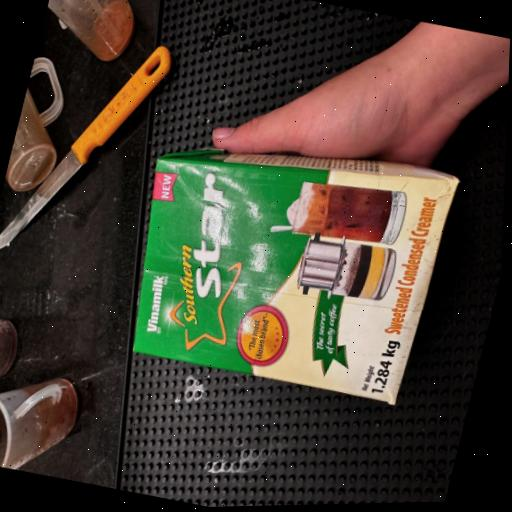cafe_hat: (218, 261, 241, 343)
sua_dac: (133, 148, 458, 402)
